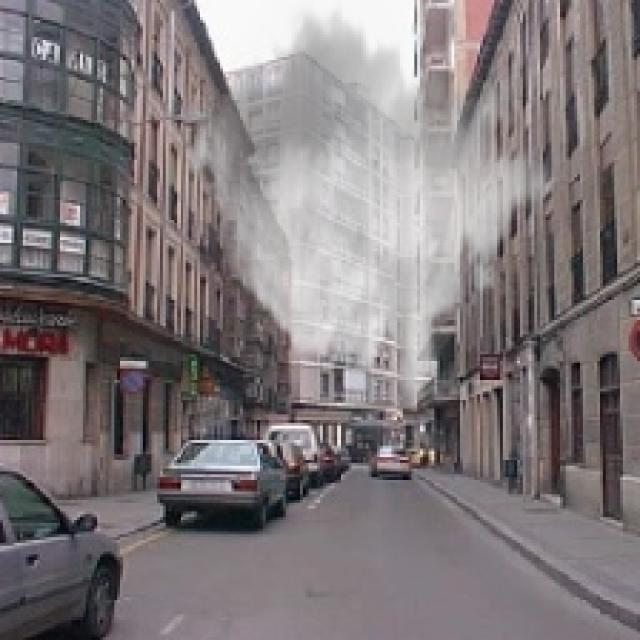smoke: (183, 0, 554, 403)
